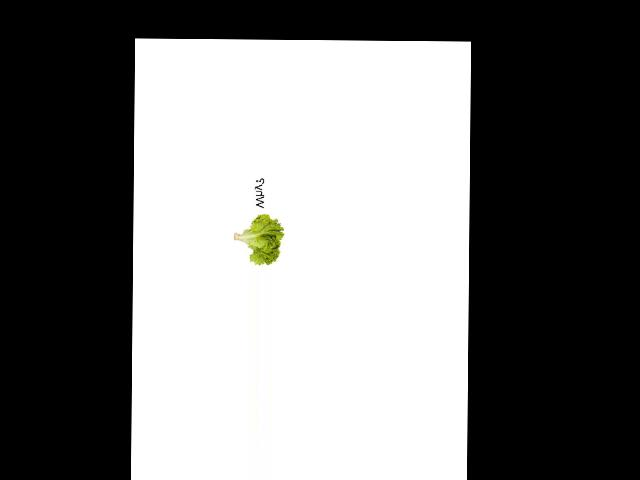lettuce: (232, 208, 284, 267)
